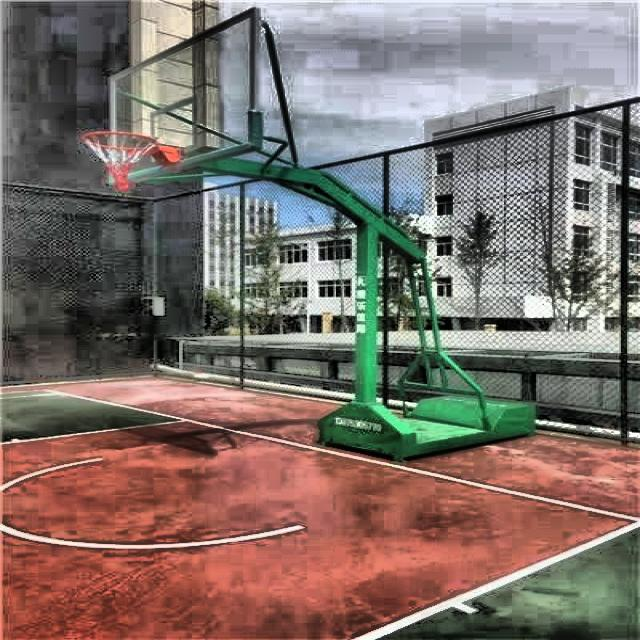rim: (86, 130, 158, 189)
